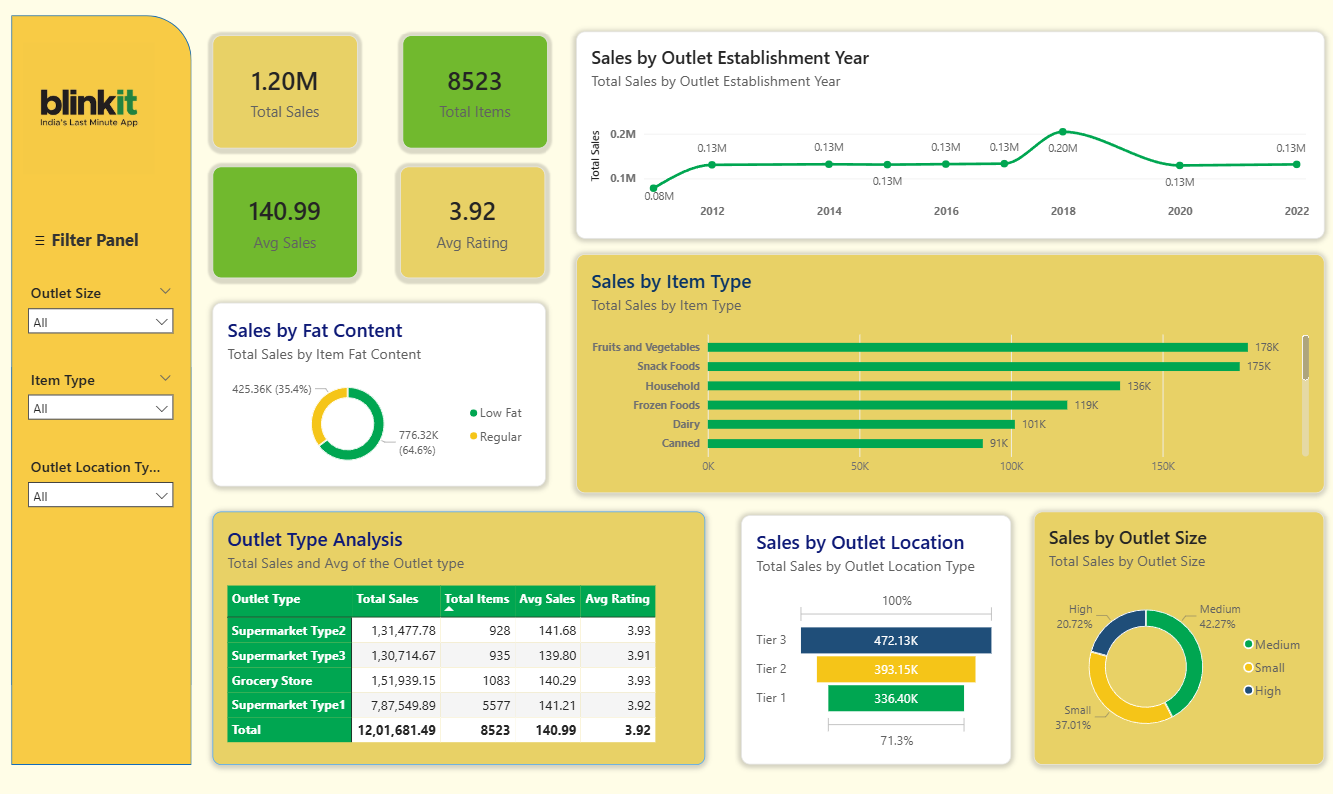

The dashboard page shown, as its layout file describes it:
{"tool":"powerbi","page":{"name":"Page 1","canvas":[1500,900],"ordinal":0},"visuals":[{"type":"card","fields":{"Values":["Key Measures.Total Sales"]},"box":[239,41.2,163.2,126.9],"z":0},{"type":"card","fields":{"Values":["Key Measures.Avg Sales"]},"box":[239,187.9,163.2,125.3],"z":1000},{"type":"card","fields":{"Values":["Key Measures.Avg Rating"]},"box":[450,187.9,163.2,125.3],"z":2000},{"type":"card","fields":{"Values":["Key Measures.Total Items"]},"box":[451.6,41.2,163.2,126.9],"z":3000},{"type":"donutChart","title":" Sales by Fat Content","fields":{"Category":["BlinkIT-Grocery-Data.Item Fat Content"],"Y":["Key Measures.Total Sales"]},"box":[239,341.2,374.2,206],"z":4000},{"type":"clusteredBarChart","title":"Sales by Item Type","fields":{"Category":["BlinkIT-Grocery-Data.Item Type"],"Y":["Key Measures.Total Sales"]},"box":[647.8,286.8,840.7,268.7],"z":5000},{"type":"donutChart","title":"Sales by Outlet Size","fields":{"Category":["BlinkIT-Grocery-Data.Outlet Size"],"Y":["Key Measures.Total Sales"]},"box":[1162.1,575.3,326.4,285.2],"z":6000},{"type":"lineChart","title":"Sales by Outlet Establishment Year","fields":{"Category":["BlinkIT-Grocery-Data.Outlet Establishment Year"],"Y":["Key Measures.Total Sales"]},"box":[647.8,36.3,840.7,232.4],"z":7000},{"type":"pivotTable","title":"Outlet Type Analysis","fields":{"Rows":["BlinkIT-Grocery-Data.Outlet Type"],"Values":["Key Measures.Total Sales","Key Measures.Total Items","Key Measures.Avg Sales","Key Measures.Avg Rating"]},"box":[239,575.3,553.8,285.2],"z":8000},{"type":"funnel","title":" Sales by Outlet Location","fields":{"Category":["BlinkIT-Grocery-Data.Outlet Location Type"],"Y":["Key Measures.Total Sales"]},"box":[832.4,580.2,303.3,280.2],"z":12000},{"type":"shape","box":[13.2,18.1,202.7,842.3],"z":12750},{"type":"slicer","fields":{"Values":["BlinkIT-Grocery-Data.Outlet Location Type"]},"box":[26.4,514.3,173.1,65.9],"z":12812},{"type":"slicer","fields":{"Values":["BlinkIT-Grocery-Data.Outlet Size"]},"box":[26.4,318.1,173.1,64.3],"z":12875},{"type":"slicer","fields":{"Values":["BlinkIT-Grocery-Data.Item Type"]},"box":[26.4,415.4,173.1,67.6],"z":13000},{"type":"textbox","box":[25.9,251.2,160.1,35.7],"z":15500},{"type":"image","box":[25.6,42,148.6,161.9],"z":16501}]}

Visuals, with their boxes in screenshot pixels (x1, y1, x2, y2), scaled from the page's 1500x900 canvas onto the 1333x794 screenshot:
card - Key Measures.Total Sales: {"x1": 212, "y1": 36, "x2": 357, "y2": 148}
card - Key Measures.Avg Sales: {"x1": 212, "y1": 166, "x2": 357, "y2": 276}
card - Key Measures.Avg Rating: {"x1": 400, "y1": 166, "x2": 545, "y2": 276}
card - Key Measures.Total Items: {"x1": 401, "y1": 36, "x2": 546, "y2": 148}
" Sales by Fat Content" donutChart: {"x1": 212, "y1": 301, "x2": 545, "y2": 483}
"Sales by Item Type" clusteredBarChart: {"x1": 576, "y1": 253, "x2": 1323, "y2": 490}
"Sales by Outlet Size" donutChart: {"x1": 1033, "y1": 508, "x2": 1323, "y2": 759}
"Sales by Outlet Establishment Year" lineChart: {"x1": 576, "y1": 32, "x2": 1323, "y2": 237}
"Outlet Type Analysis" pivotTable: {"x1": 212, "y1": 508, "x2": 705, "y2": 759}
" Sales by Outlet Location" funnel: {"x1": 740, "y1": 512, "x2": 1009, "y2": 759}
shape: {"x1": 12, "y1": 16, "x2": 192, "y2": 759}
slicer - BlinkIT-Grocery-Data.Outlet Location Type: {"x1": 23, "y1": 454, "x2": 177, "y2": 512}
slicer - BlinkIT-Grocery-Data.Outlet Size: {"x1": 23, "y1": 281, "x2": 177, "y2": 337}
slicer - BlinkIT-Grocery-Data.Item Type: {"x1": 23, "y1": 366, "x2": 177, "y2": 426}
textbox: {"x1": 23, "y1": 222, "x2": 165, "y2": 253}
image: {"x1": 23, "y1": 37, "x2": 155, "y2": 180}
